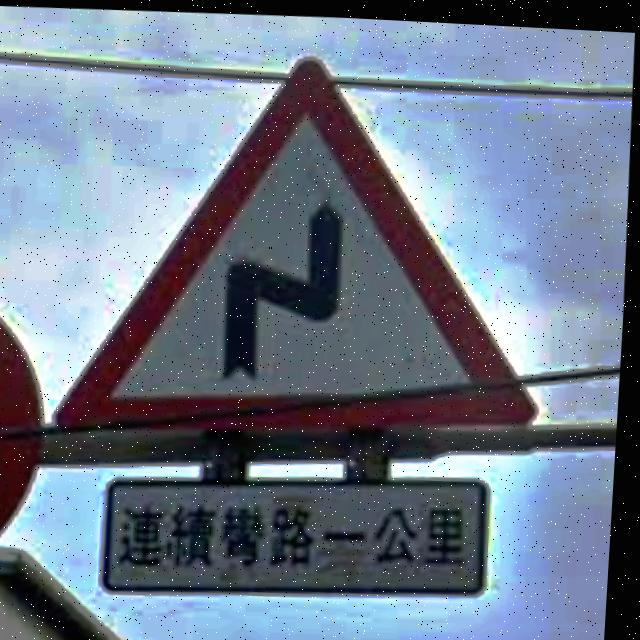doublebendright: (56, 55, 543, 430)
